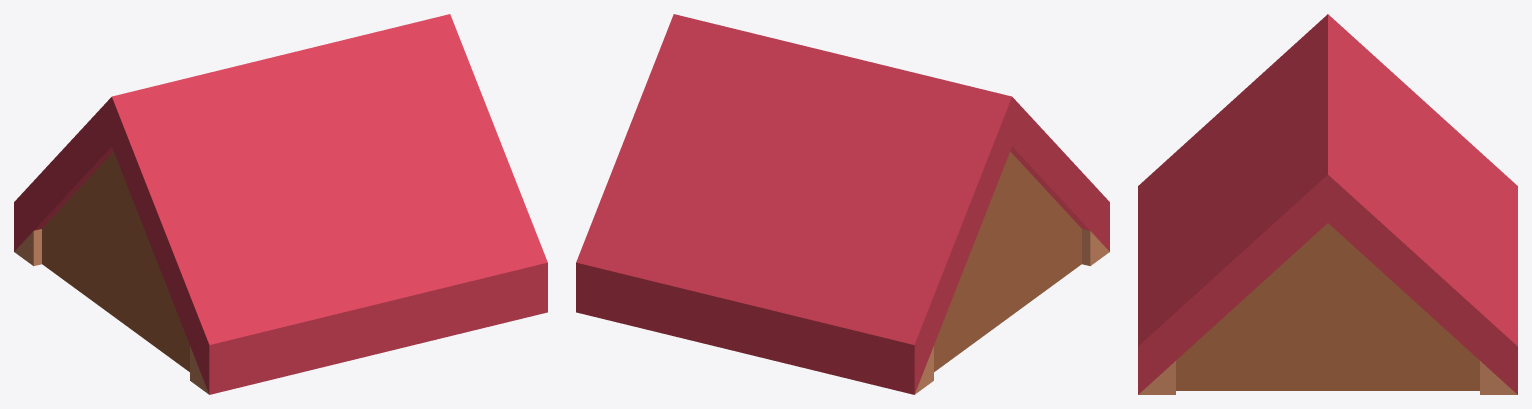
Rendered from roofHighGableTop.fbx.
3 renders of one model, left to right at view 1: azimuth 30°, elevation 25°; view 2: azimuth 150°, elevation 25°; view 3: azimuth 270°, elevation 25°, orthographic. The views are drawn at different scales.
Visible parts, largest first — view 1: roofHighGableTop; view 2: roofHighGableTop; view 3: roofHighGableTop.
Part boxes in pixels (x1,y1,x2,y2): roofHighGableTop: (14, 14, 547, 394); roofHighGableTop: (576, 14, 1109, 394); roofHighGableTop: (1138, 14, 1517, 394).
Size of the model in its own units: 10 by 6.41 by 10.
